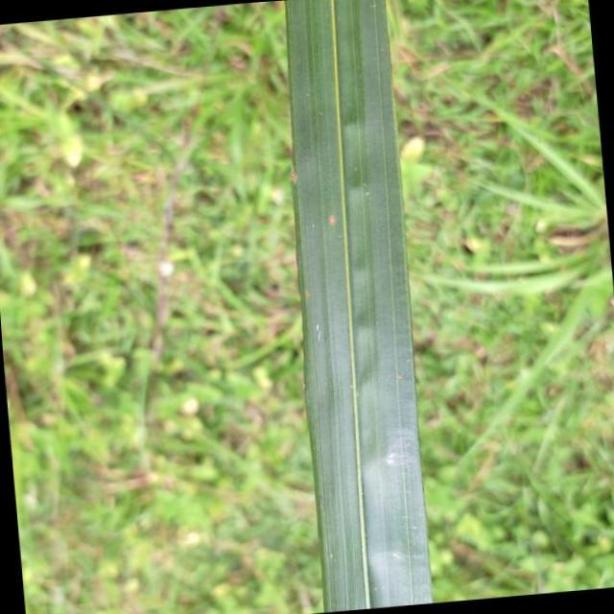Boron: (282, 0, 436, 614)
